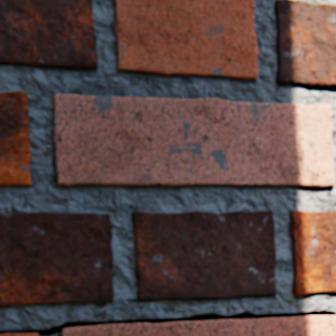brick: (54, 95, 334, 188), (133, 211, 276, 301), (115, 0, 258, 81), (0, 213, 114, 306), (0, 0, 97, 71), (274, 0, 335, 89), (62, 316, 335, 335), (290, 211, 335, 295), (0, 92, 31, 186), (0, 333, 39, 335)
crack: (0, 311, 335, 335)
